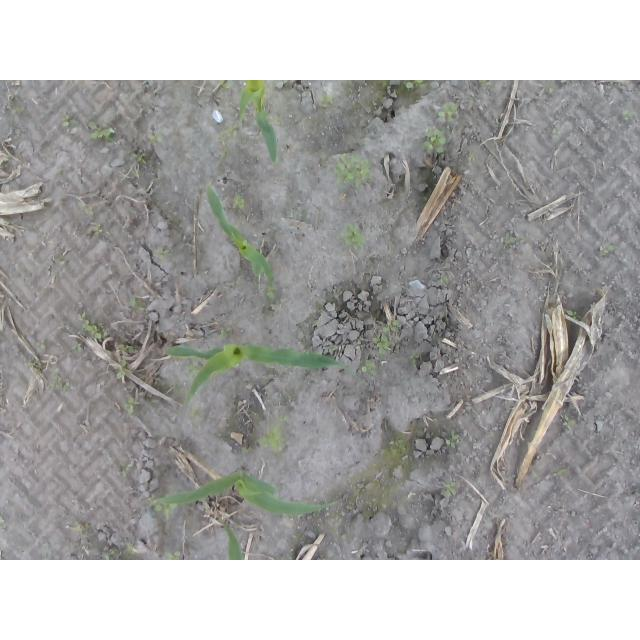Maize: (155, 341, 366, 409), (154, 465, 343, 522), (206, 185, 275, 287), (237, 82, 279, 166), (222, 526, 250, 560)
Weeds: (335, 156, 369, 188), (375, 320, 402, 356), (256, 424, 284, 452), (115, 344, 135, 381), (219, 126, 240, 158), (78, 315, 100, 341), (89, 122, 115, 142), (424, 132, 446, 154), (343, 225, 365, 247), (6, 94, 26, 117), (438, 102, 461, 122), (155, 497, 177, 517), (445, 428, 459, 448), (407, 80, 426, 92), (51, 375, 65, 390), (562, 415, 575, 431), (133, 149, 147, 163), (125, 397, 139, 411), (320, 93, 333, 108), (364, 359, 376, 374), (444, 483, 456, 498), (233, 195, 245, 209), (156, 246, 168, 259), (167, 549, 181, 560), (131, 300, 147, 309), (61, 115, 74, 126), (623, 109, 637, 119), (509, 237, 524, 246), (104, 546, 113, 560), (601, 245, 615, 254), (123, 465, 132, 478), (75, 523, 85, 534), (38, 340, 46, 353), (73, 344, 84, 353), (442, 276, 451, 287), (412, 353, 421, 364), (147, 136, 161, 143), (92, 224, 101, 234), (126, 544, 135, 552)
